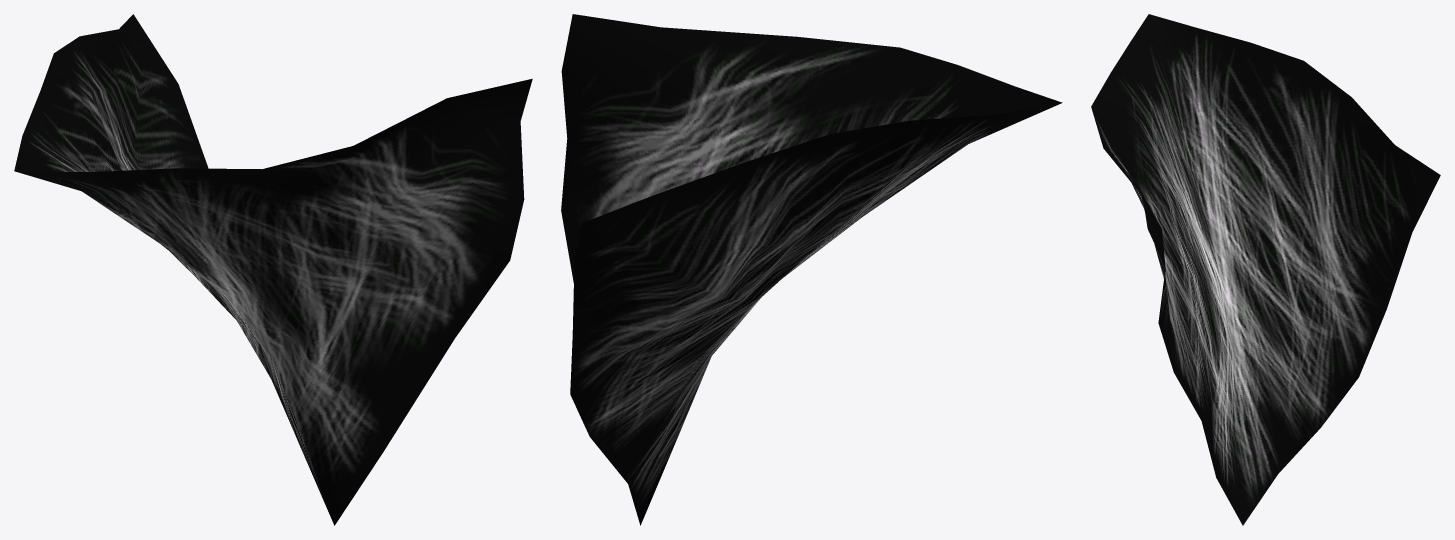
Rendered from SWORDLIGHT20_PS-AREA01_CORNERWEB15.fbx.
3 views of the same model, side by side, from view 1: azimuth 30°, elevation 25°; view 2: azimuth 150°, elevation 25°; view 3: azimuth 270°, elevation 25° (orthographic). The views are drawn at different scales.
Visible parts, largest first — view 1: SWORDLIGHT20_PS-AREA01_CORNERWEB15; view 2: SWORDLIGHT20_PS-AREA01_CORNERWEB15; view 3: SWORDLIGHT20_PS-AREA01_CORNERWEB15.
Boxes of the visible parts, box(x1,y1,x2,y2) form: SWORDLIGHT20_PS-AREA01_CORNERWEB15: box(14, 14, 532, 525); SWORDLIGHT20_PS-AREA01_CORNERWEB15: box(561, 14, 1062, 525); SWORDLIGHT20_PS-AREA01_CORNERWEB15: box(1091, 14, 1440, 525).
Size of the model in its own units: 59165 by 54790 by 46036.
Materials: 1 (1 with a texture image).
